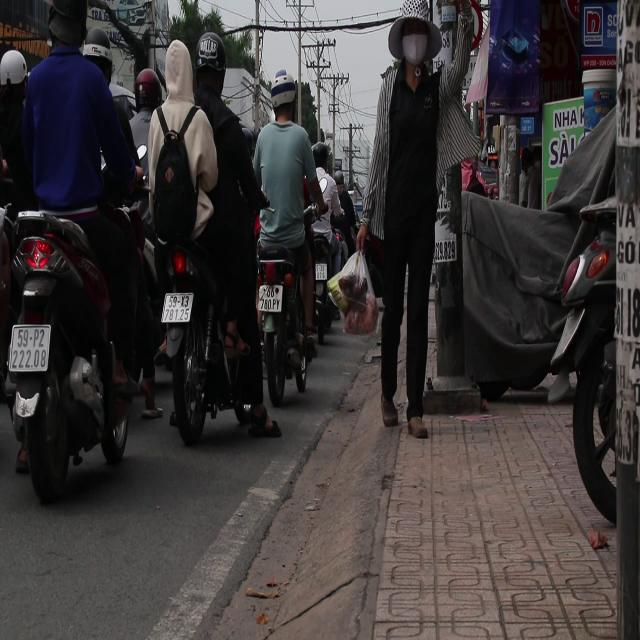motorbike: (0, 195, 137, 488), (254, 236, 317, 412)
